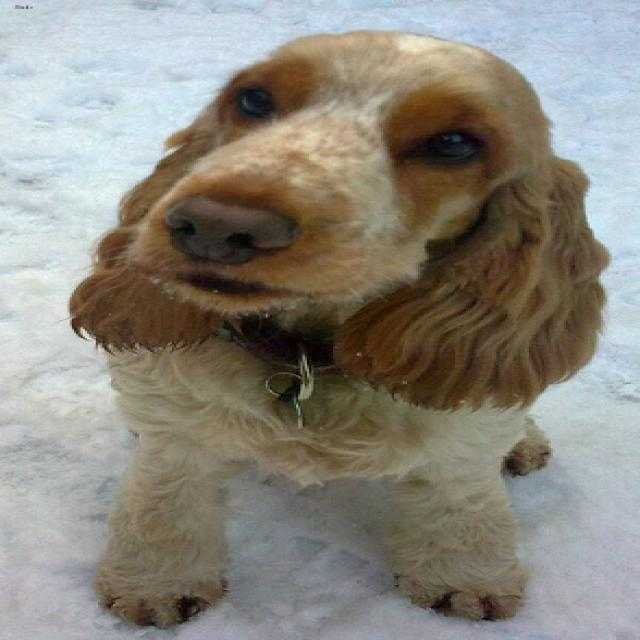dog-english_cocker_spaniel: (54, 17, 629, 637)
